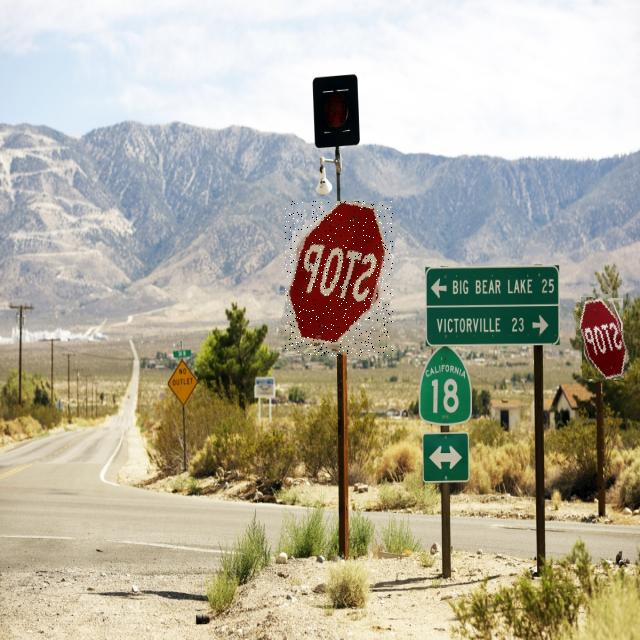stop: (285, 201, 393, 356), (576, 295, 628, 381)
